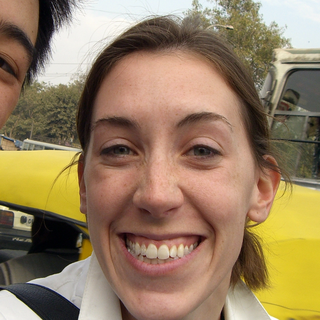eye: (174, 139, 227, 165), (96, 136, 144, 164)
